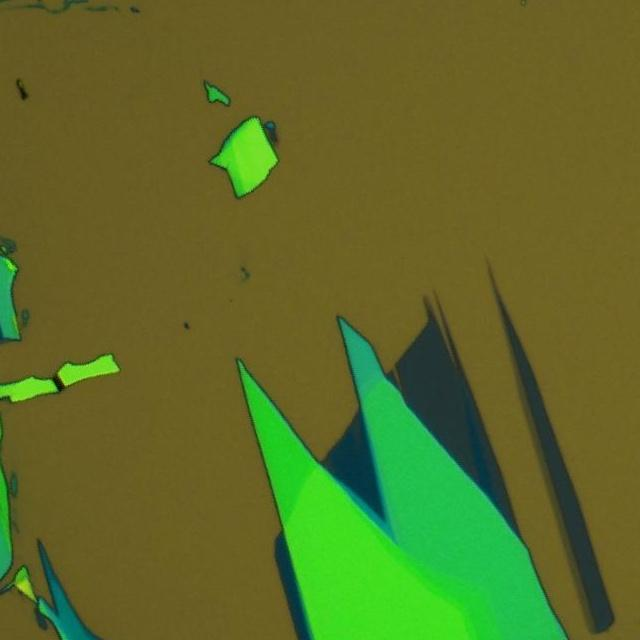monolayer-eWW4: (506, 332, 599, 634)
